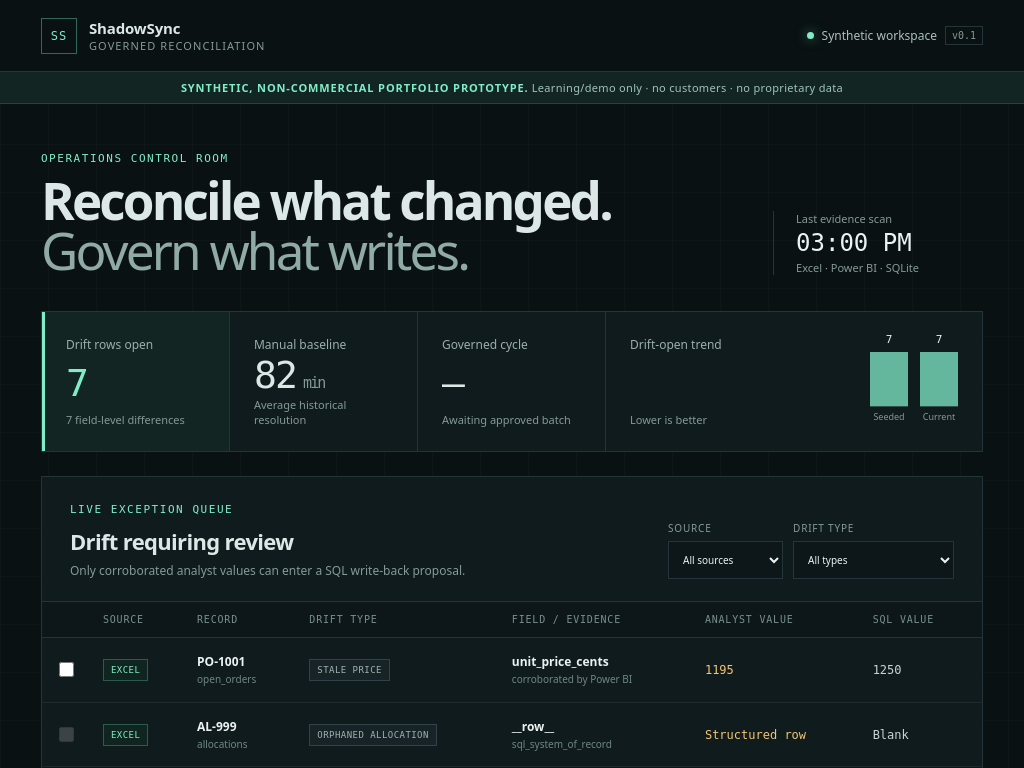
it: ShadowSync workspace › renders drift evidence and only enables reviewable rows
Expected: the text "PO-1001" is shown, top-left (197, 653), bottom-right (245, 670)
Expected: the heading "Drift requiring review" is shown, top-left (70, 526), bottom-right (293, 556)
Click the checkbox named "Select Excel PO-1001 unit_price_cents". click: (66, 670)
box: top-left (59, 662), bottom-right (74, 677)
(page scrolled)
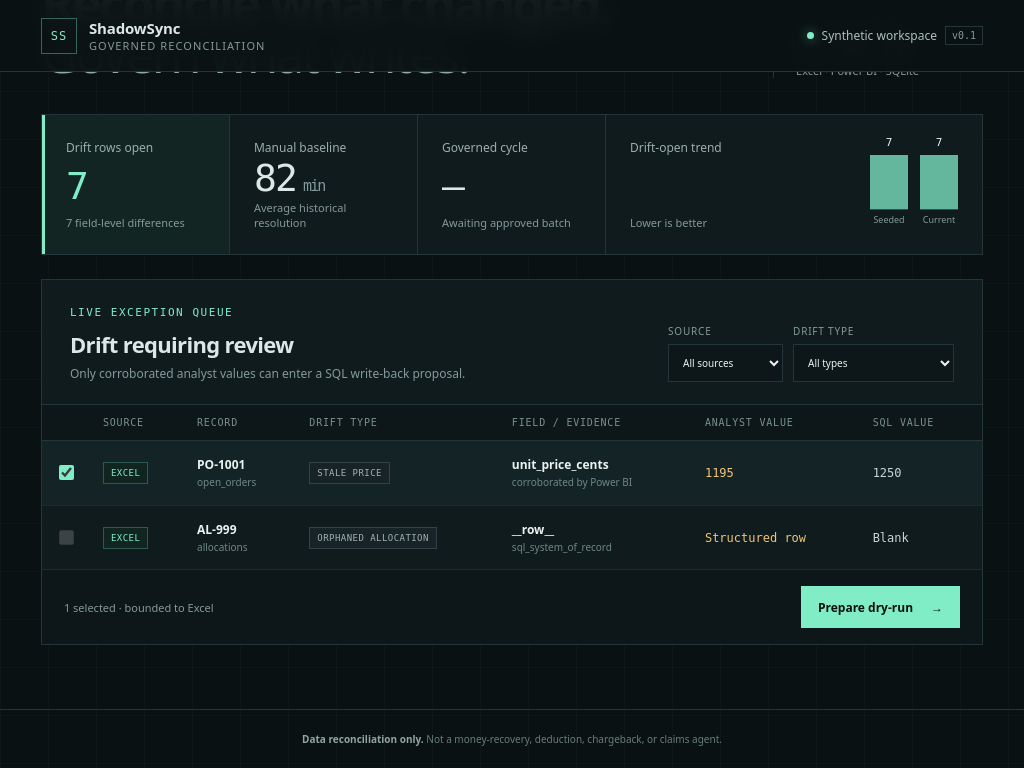
Expected: the button "Prepare dry-run →" is enabled, top-left (801, 586), bottom-right (960, 628)
